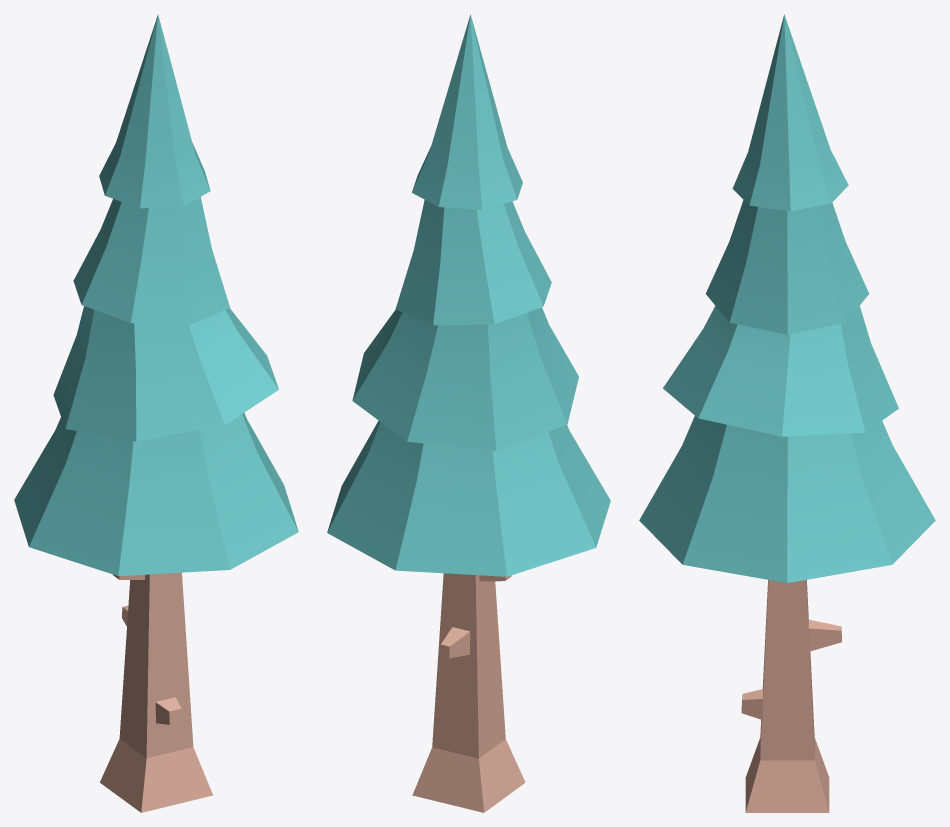
The model's file is tree_pineDefaultB.glb.
3 renders of one model, left to right at view 1: azimuth 30°, elevation 25°; view 2: azimuth 150°, elevation 25°; view 3: azimuth 270°, elevation 25°, orthographic.
Parts seen in each view (by area): view 1: tree_pineDefaultB; view 2: tree_pineDefaultB; view 3: tree_pineDefaultB.
Part boxes in pixels (<box>): tree_pineDefaultB: <box>14,14,298,812</box>; tree_pineDefaultB: <box>327,14,610,812</box>; tree_pineDefaultB: <box>639,14,935,812</box>.
Size of the model in its own units: 0.532 by 1.55 by 0.532.
1 material, 1 textured.
